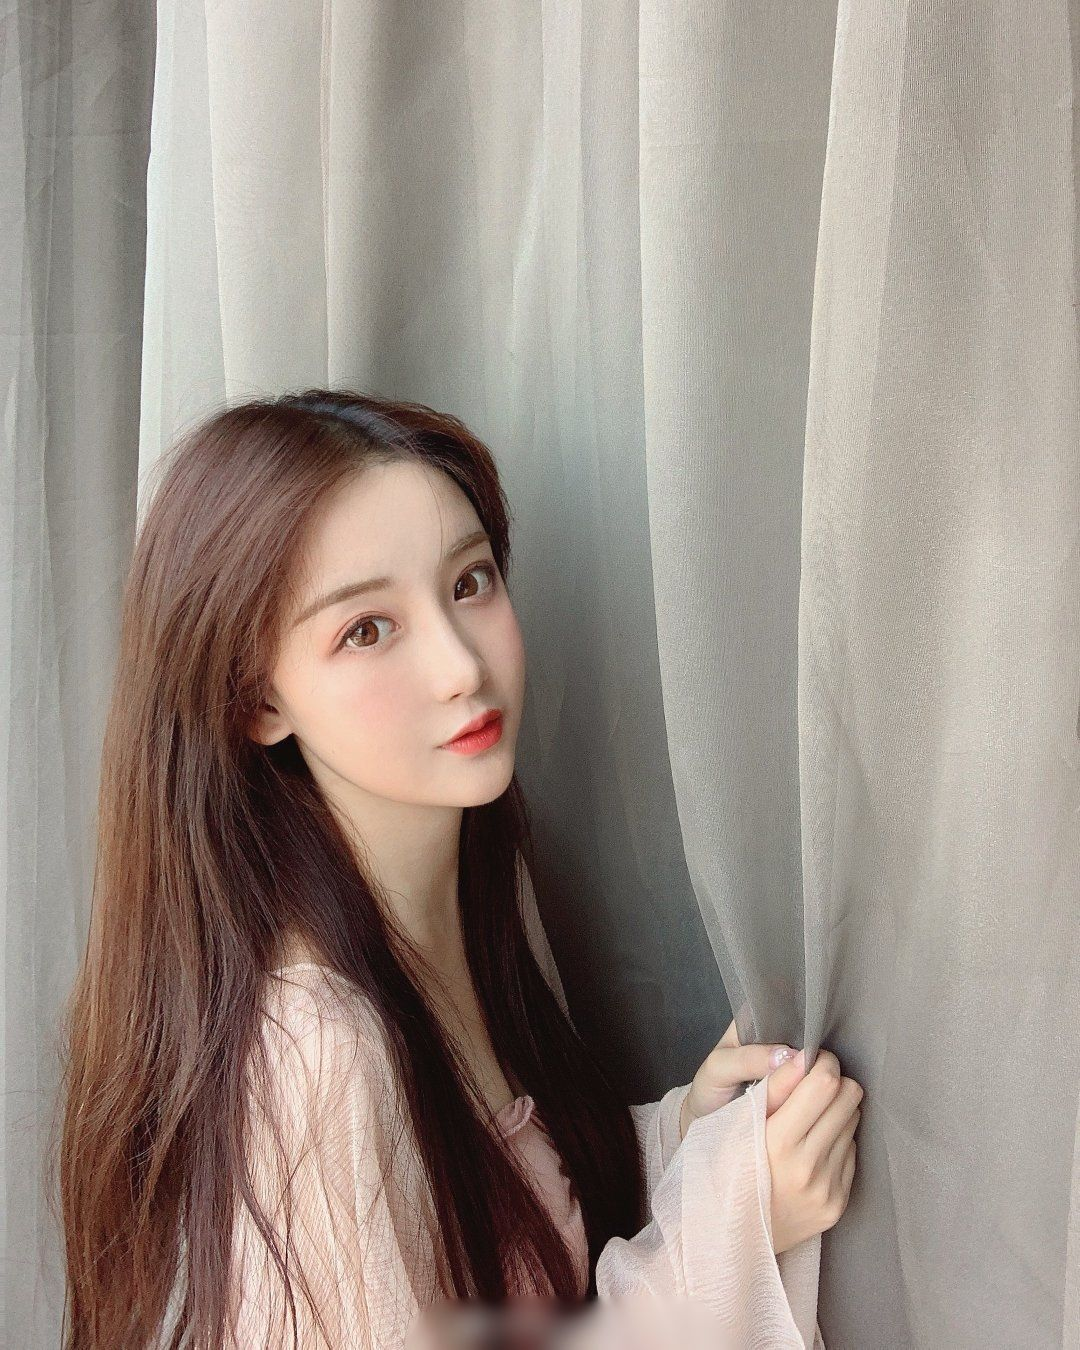person: (82, 363, 1045, 1350)
